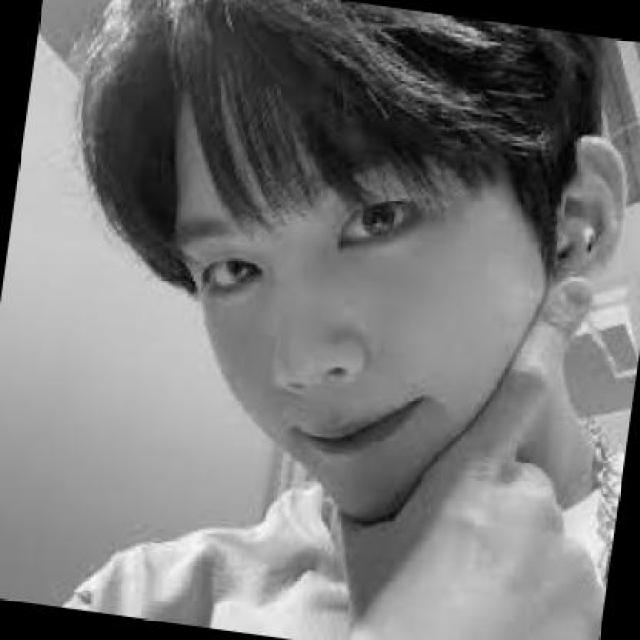earphone: (555, 183, 607, 270)
